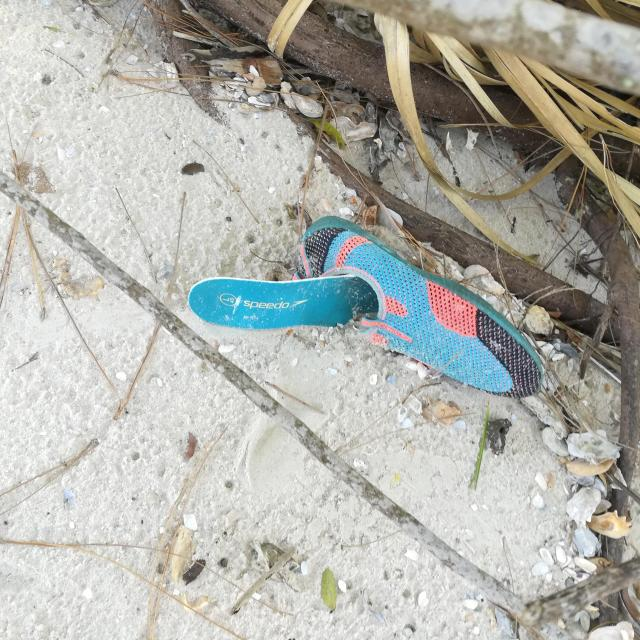litter: (188, 215, 542, 399)
